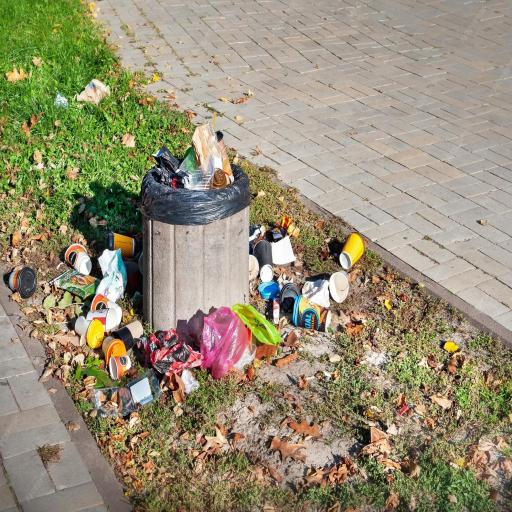contenedor_lleno: (51, 124, 365, 415), (10, 267, 36, 298)
